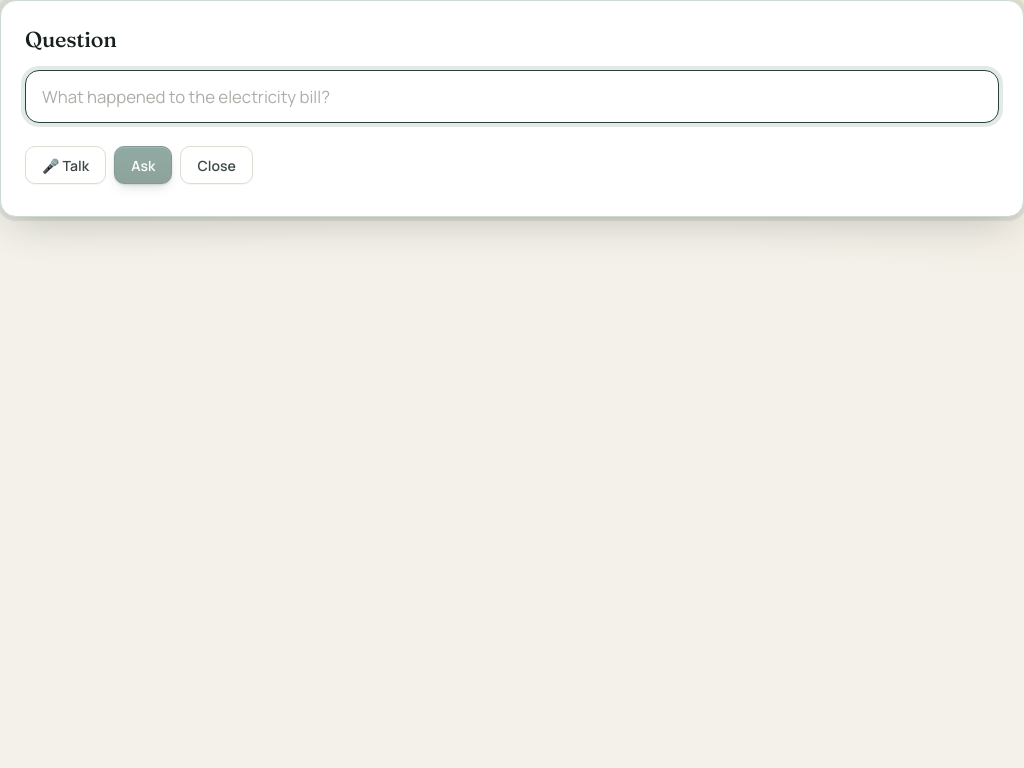
Test: Spoken corrections › applies a dictated correction only after confirmation, as a voice correction
What coordinates should you click on to do the following:
click the button with aria-label "Start voice recording"
I would click on:
 (66, 165)
Its box is top-left (25, 146), bottom-right (106, 184).
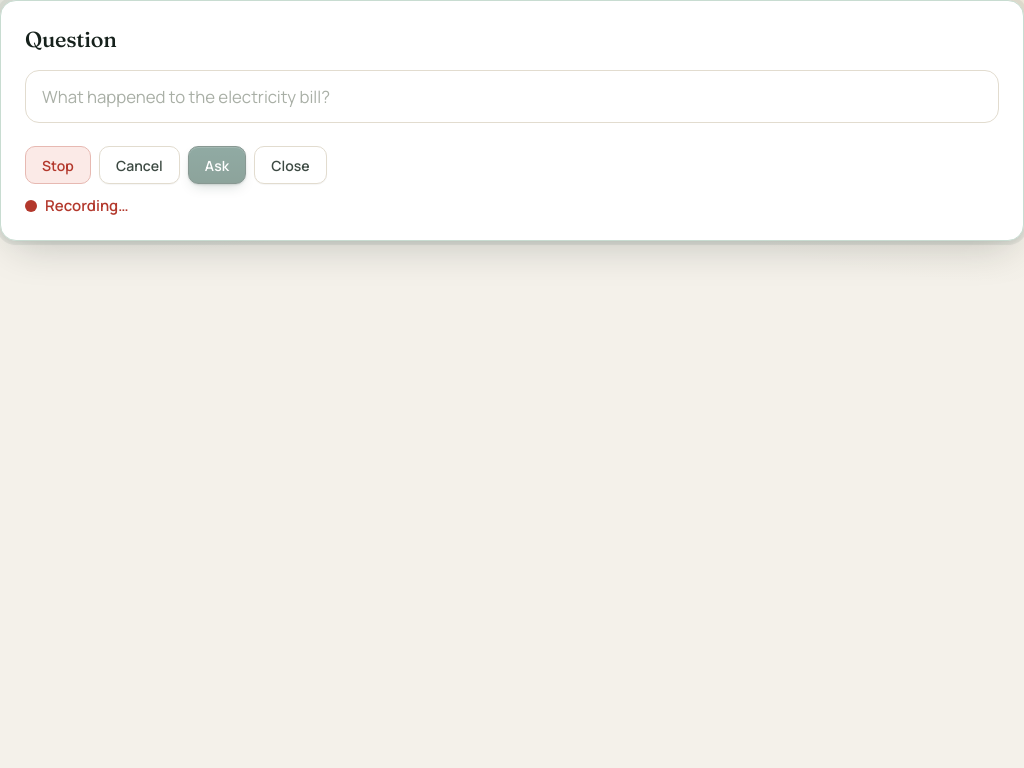
What coordinates should you click on to do the following:
click the button with aria-label "Stop recording"
I would click on:
 (58, 165)
Its box is top-left (25, 146), bottom-right (91, 184).
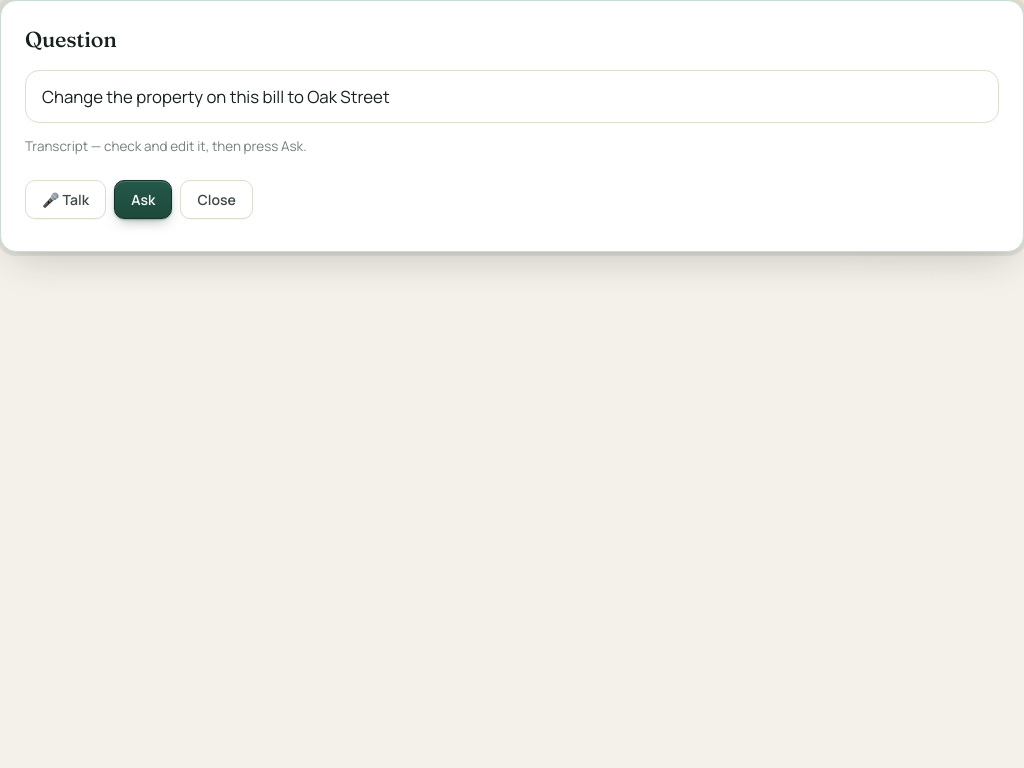
Expected: the field labelled "Question" holds "Change the property on this bill to Oak Street", top-left (25, 70), bottom-right (999, 123)
What coordinates should you click on to do the following:
click the button "Ask"
I would click on:
 (143, 200)
Its box is top-left (114, 180), bottom-right (172, 219).
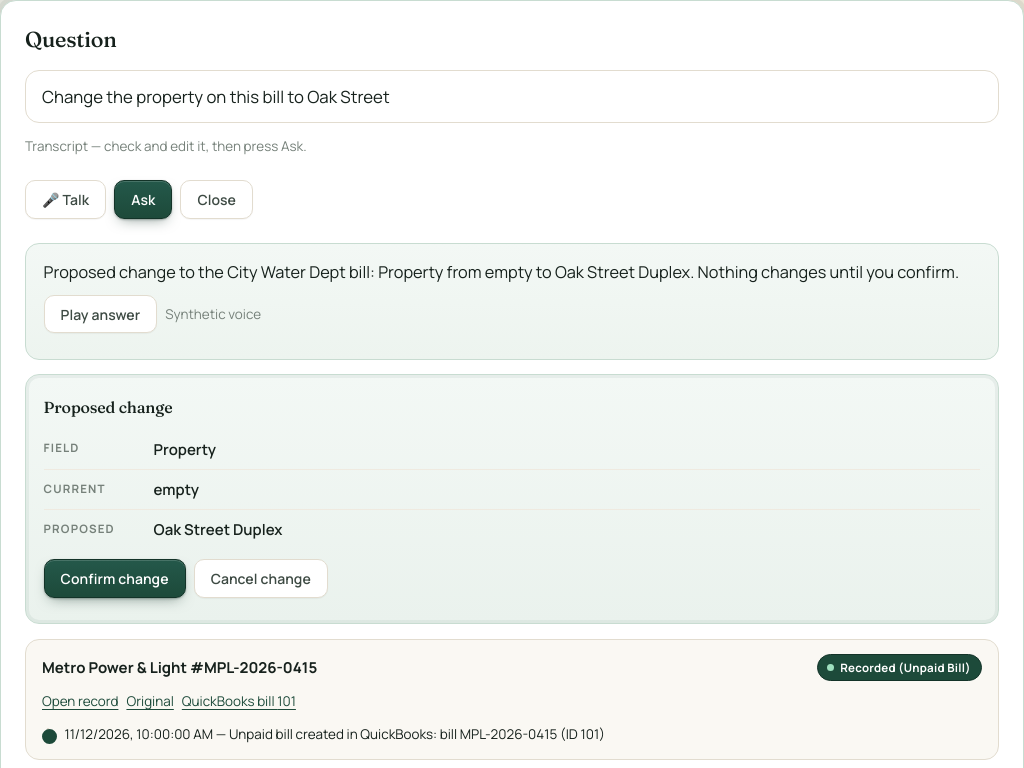
Expected: the text "Oak Street Duplex" is shown, top-left (154, 519), bottom-right (282, 540)
Expected: the text "empty" is shown, top-left (154, 470), bottom-right (980, 510)
What coordinates should you click on to do the following:
click the button "Confirm change"
I would click on:
 (115, 578)
Its box is top-left (44, 559), bottom-right (186, 598).
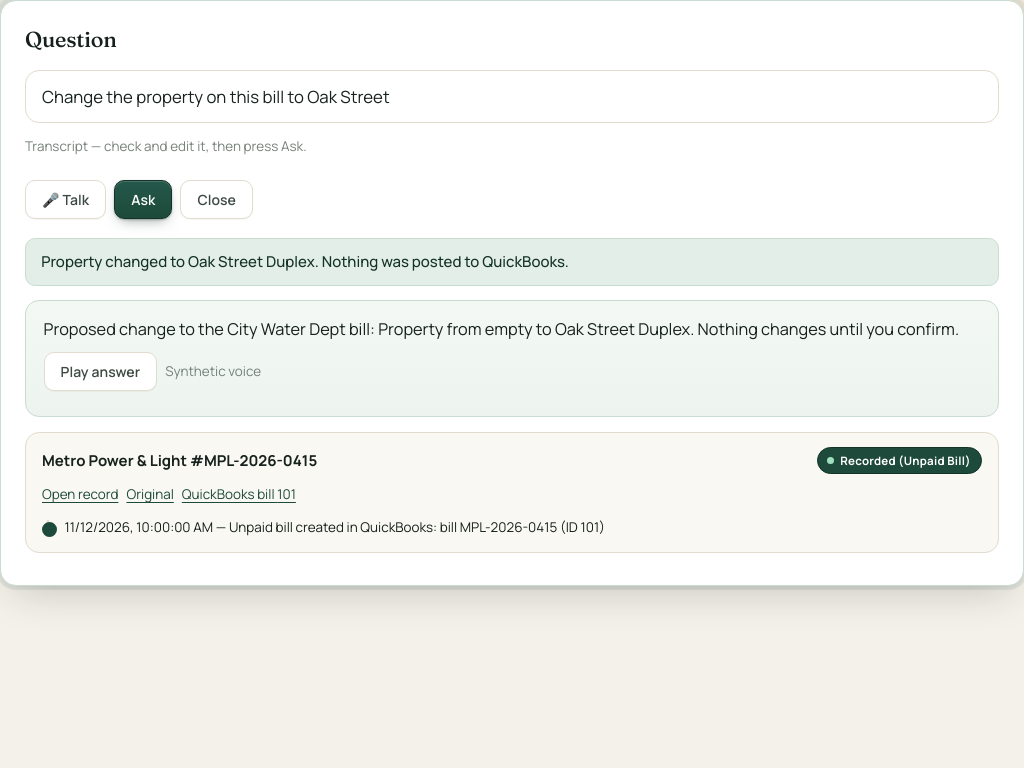
Expected: the text "Property changed to Oak Street Duplex. Nothing was posted to QuickBooks." is shown, top-left (25, 238), bottom-right (999, 286)
